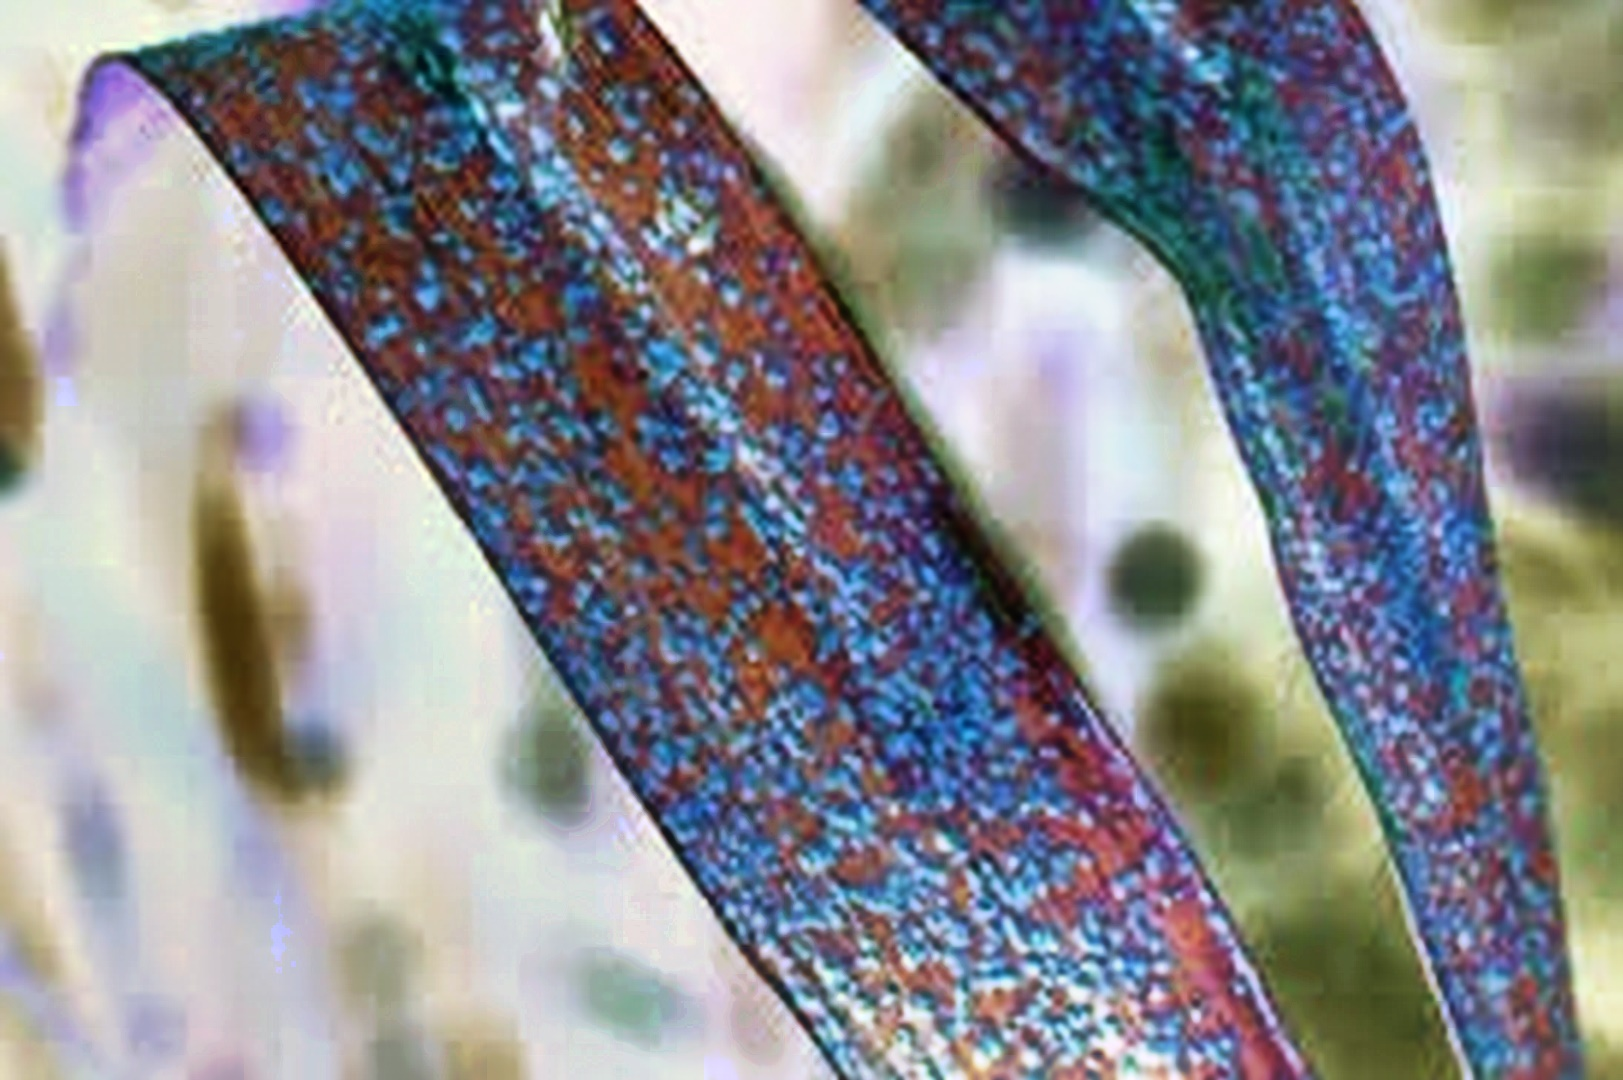Leaf Rust: (410, 196, 1096, 946)
